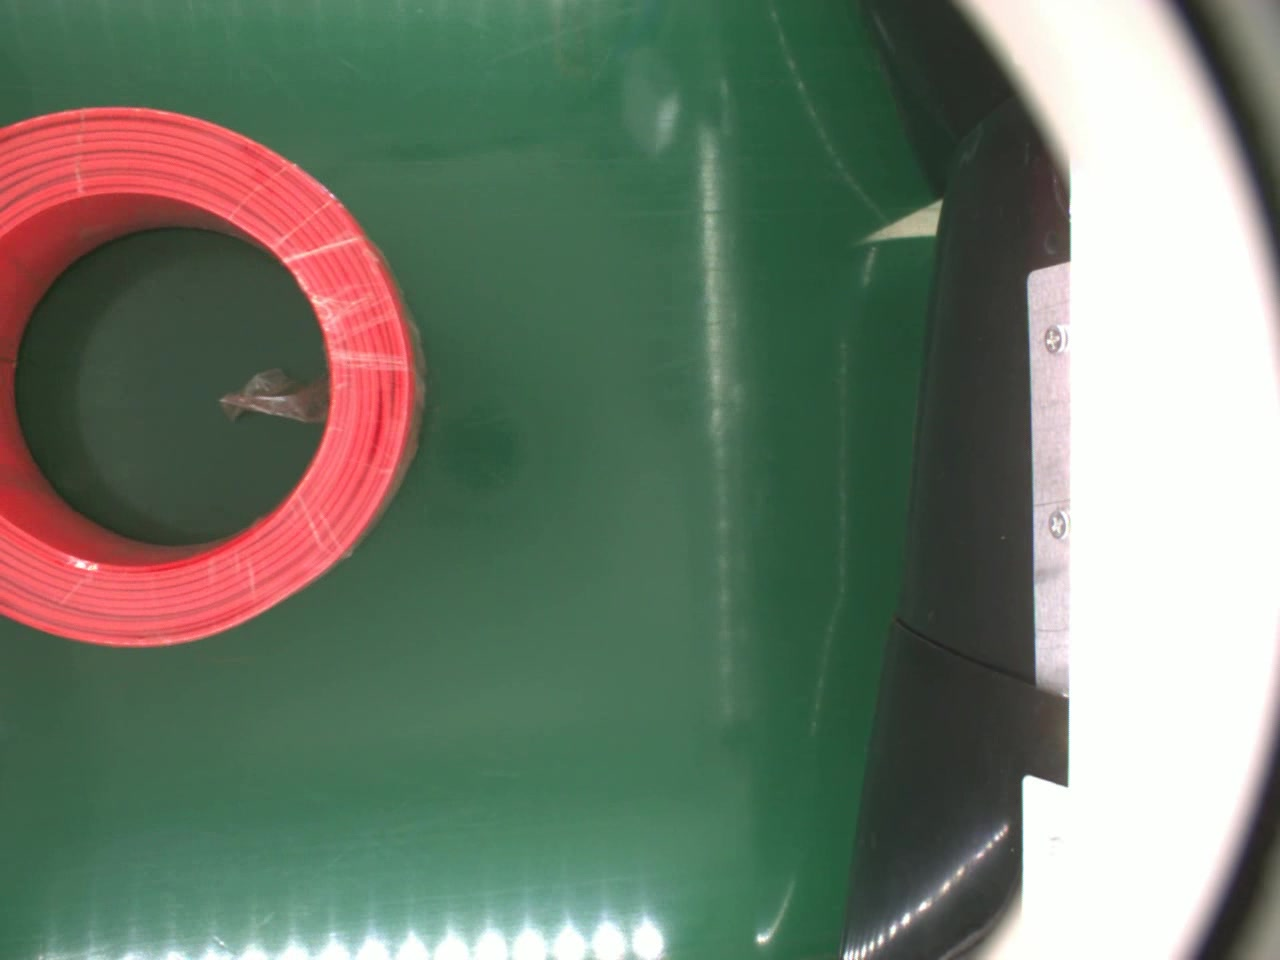red: (0, 99, 422, 654)
